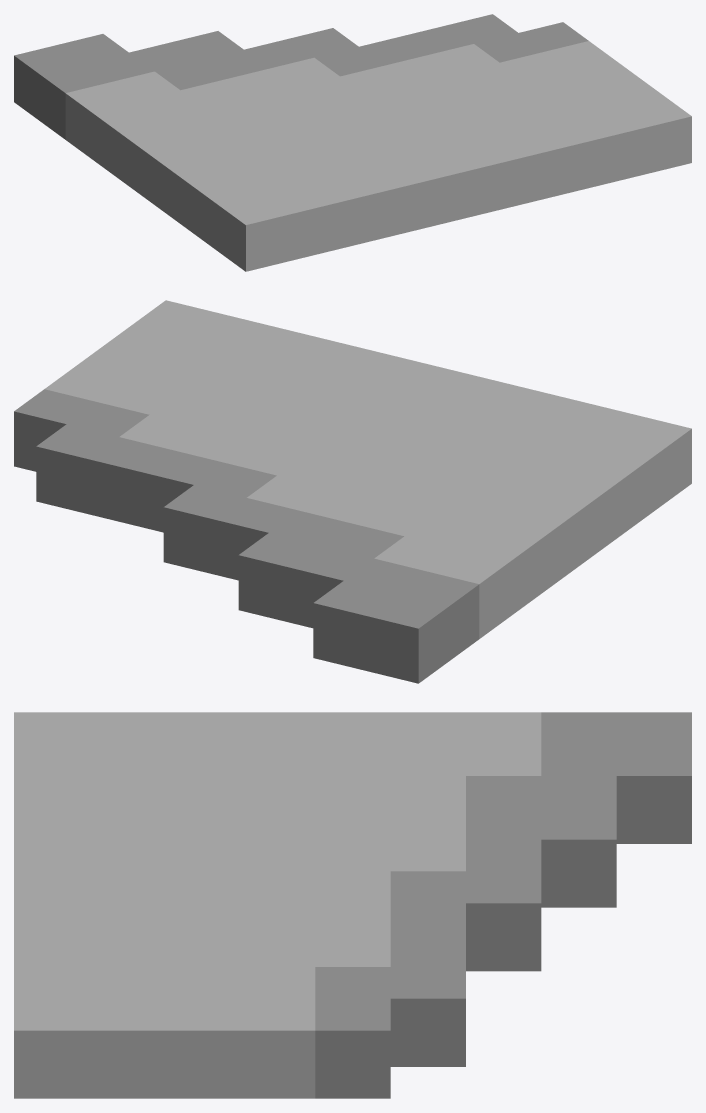
Rendered from path_gray_diagonal_A_down.obj.
3 renders of one model, top to bottom at view 1: azimuth 30°, elevation 25°; view 2: azimuth 150°, elevation 25°; view 3: azimuth 270°, elevation 25°, orthographic. The views are drawn at different scales.
Size of the model in its own units: 1 by 0.1 by 0.9.
Materials: 1 (1 with a texture image).
